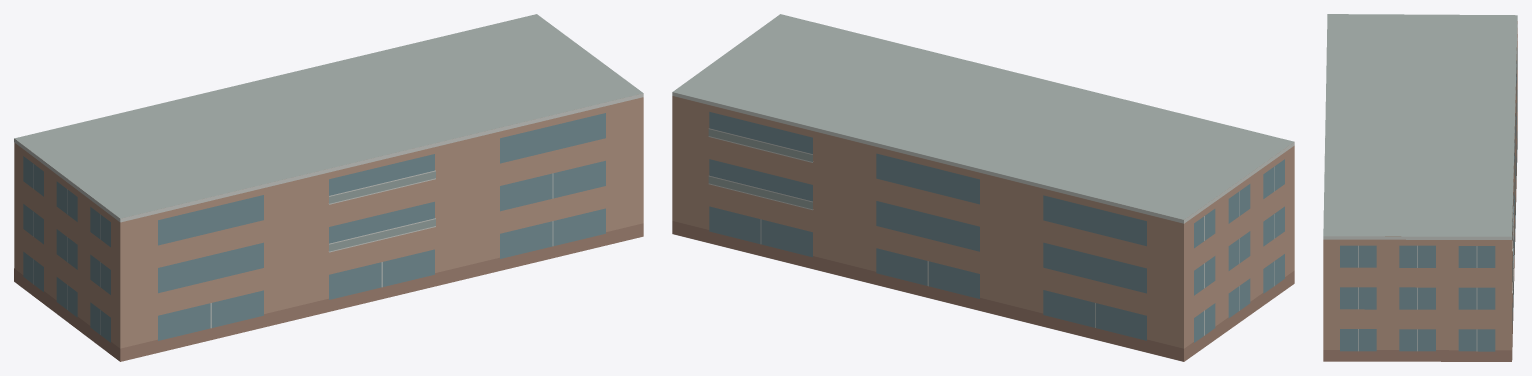
Rendered from survey-upis-32687205.glb.
3 renders of one model, left to right at view 1: azimuth 30°, elevation 25°; view 2: azimuth 150°, elevation 25°; view 3: azimuth 270°, elevation 25°, orthographic. The views are drawn at different scales.
Visible parts, largest first — view 1: survey-upis-32687205.tmp; view 2: survey-upis-32687205.tmp; view 3: survey-upis-32687205.tmp.
Boxes of the visible parts, left/top/right/bottom form: survey-upis-32687205.tmp: left=14, top=14, right=643, bottom=361; survey-upis-32687205.tmp: left=672, top=14, right=1294, bottom=361; survey-upis-32687205.tmp: left=1323, top=14, right=1517, bottom=361.
Bounding box in the file's own units: 34.92 × 9.15 × 12.88.
